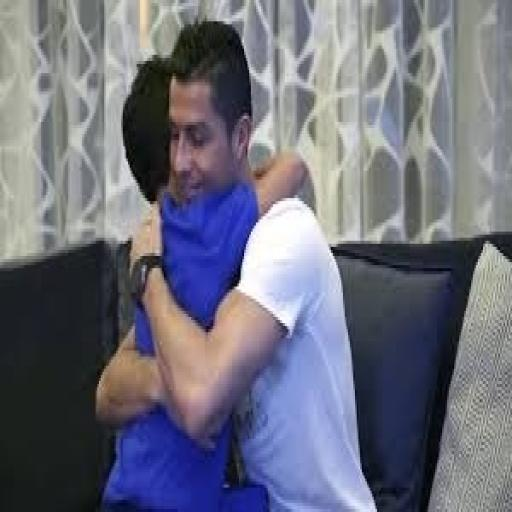hugging: (94, 15, 380, 509)
